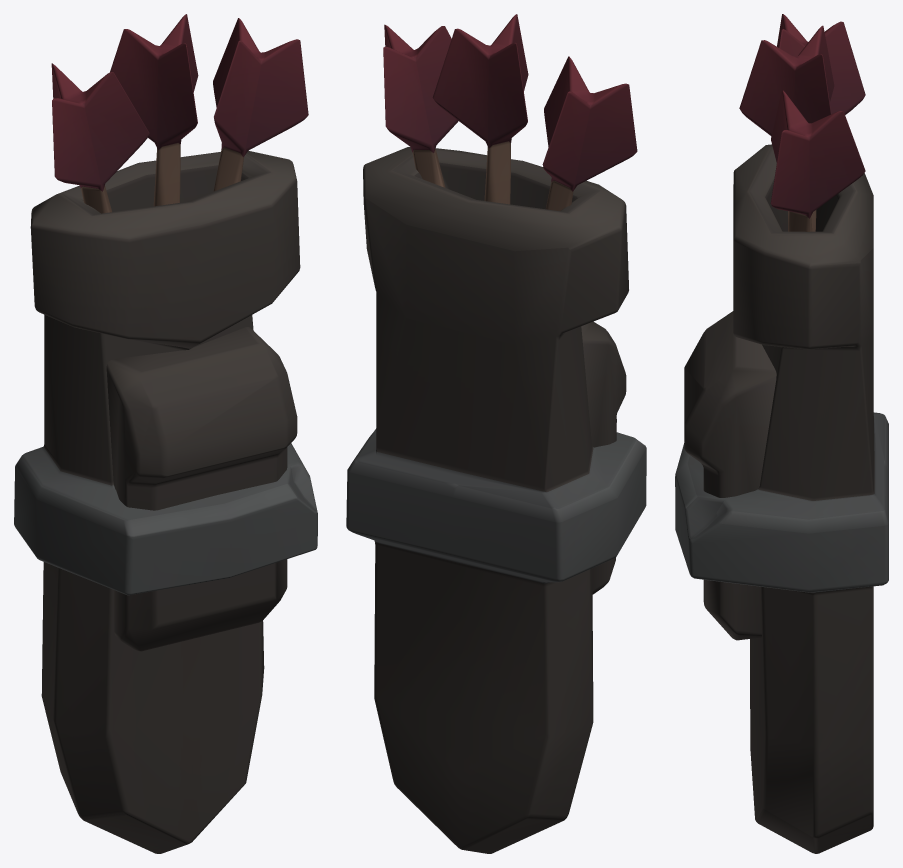
The model's file is quiver_2.glb.
The picture shows the model from 3 angles, left to right: view 1: azimuth 30°, elevation 25°; view 2: azimuth 150°, elevation 25°; view 3: azimuth 270°, elevation 25°; orthographic projection. The views are drawn at different scales.
Visible parts, largest first — view 1: quiver_2; view 2: quiver_2; view 3: quiver_2.
Boxes of the visible parts, x1,y1,x2,y2 form: quiver_2: (14,14,317,853); quiver_2: (346,14,646,853); quiver_2: (675,14,888,853).
Bounding box in the file's own units: 0.2472 × 0.75 × 0.1787.
Materials: 1 (1 with a texture image).
